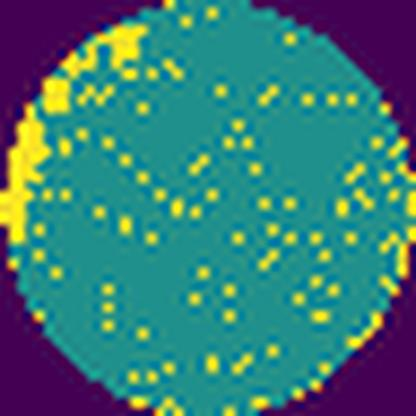Edge-Loc: (42, 23, 145, 122), (0, 102, 56, 249)
